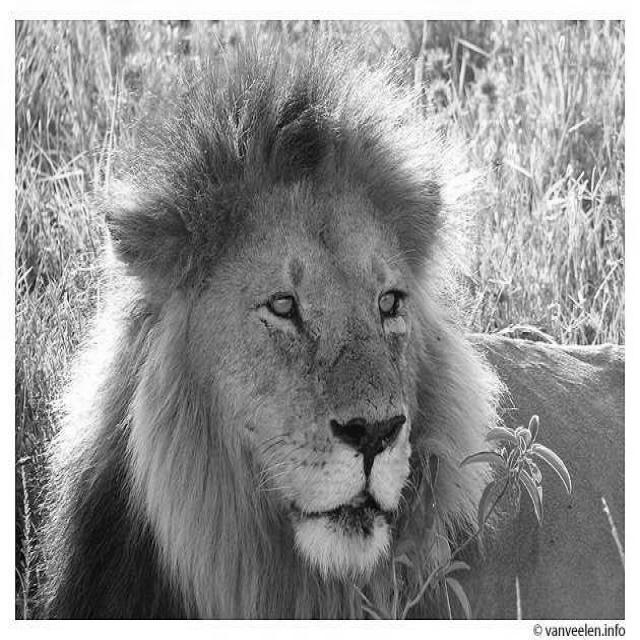Lion: (63, 62, 588, 606)
